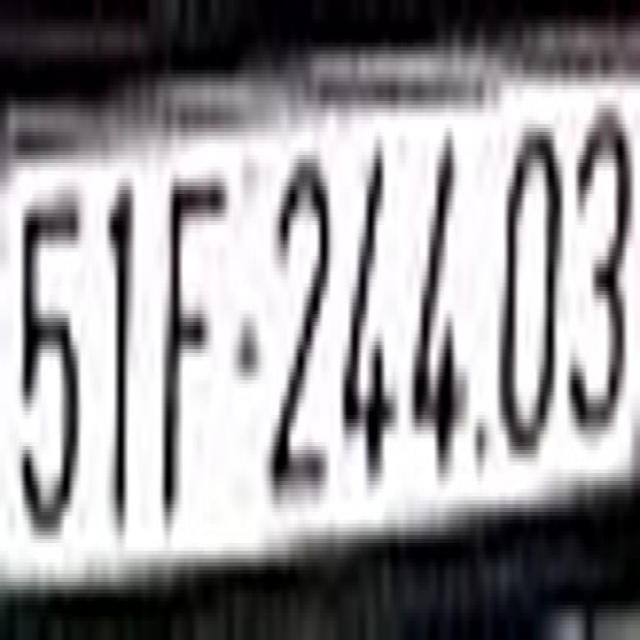0: (500, 117, 556, 470)
1: (106, 170, 134, 532)
2: (276, 163, 328, 497)
3: (572, 104, 630, 470)
4: (412, 136, 464, 462), (348, 136, 394, 488)
5: (19, 206, 79, 520)
F: (164, 167, 228, 536)
